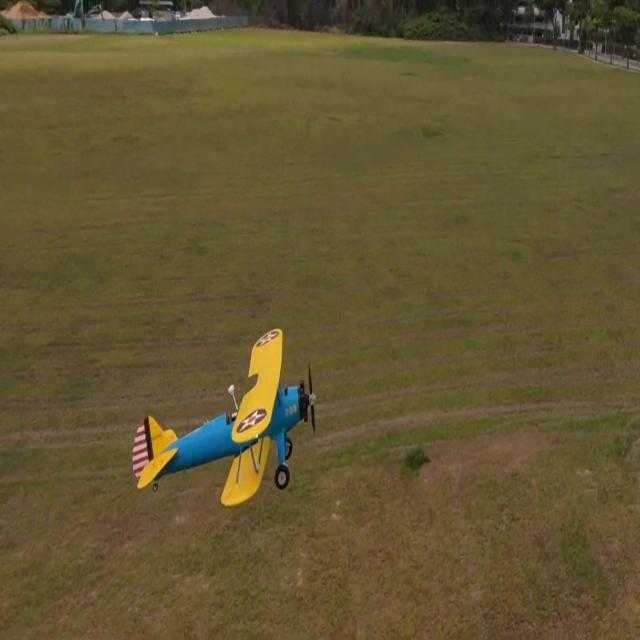iha: (130, 325, 324, 519)
